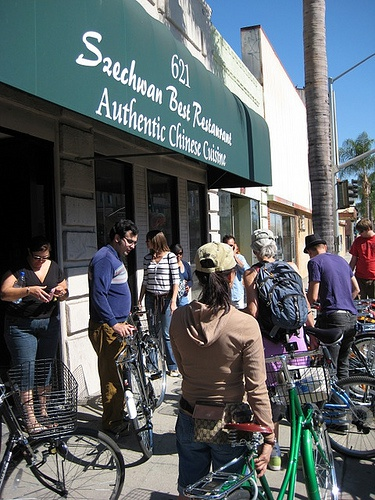non-vehicle: (196, 351, 341, 494), (0, 351, 130, 494), (301, 326, 375, 459), (114, 310, 165, 457), (348, 321, 375, 376)
